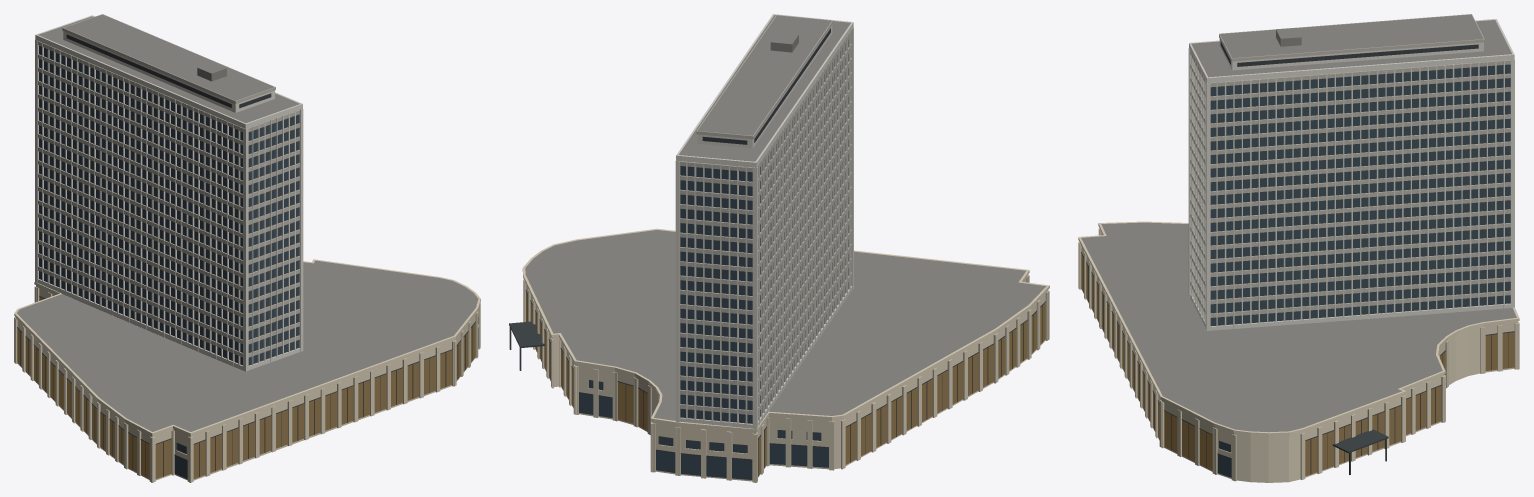
Rendered from royal_lancaster_london.glb.
The picture shows the model from 3 angles, left to right: view 1: azimuth 30°, elevation 25°; view 2: azimuth 150°, elevation 25°; view 3: azimuth 270°, elevation 25°; orthographic projection. The views are drawn at different scales.
Size of the model in its own units: 88.38 by 67.75 by 81.93.
